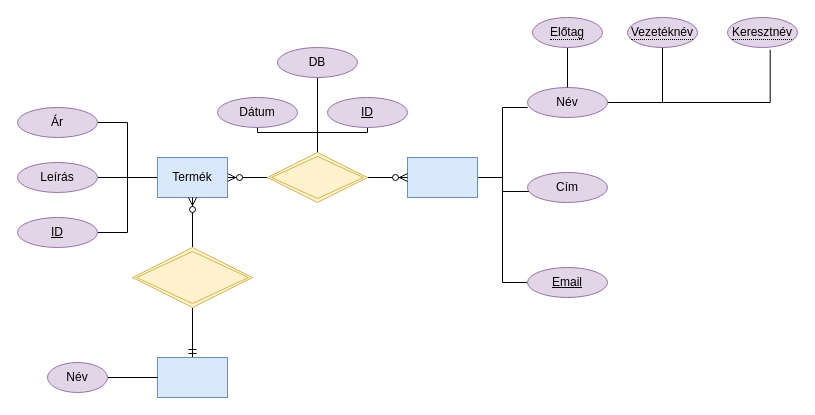
Image size: 815x415. Some labels were removed from this diagram. The shapes that lost their labels are listed below. From the top down, each one's box as (x1, y1, x2, y2) in pixels, then its label:
(266, 152, 368, 202): Vásárlás
(406, 156, 478, 198): Vásárlók
(132, 246, 252, 308): Rendelkezik
(156, 356, 228, 398): Kategória
